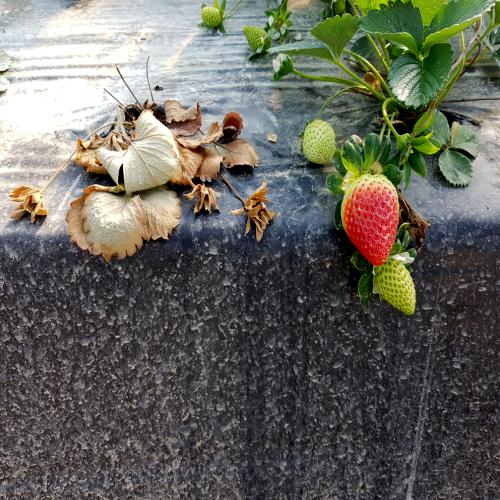partially-ripe: (336, 168, 399, 268)
